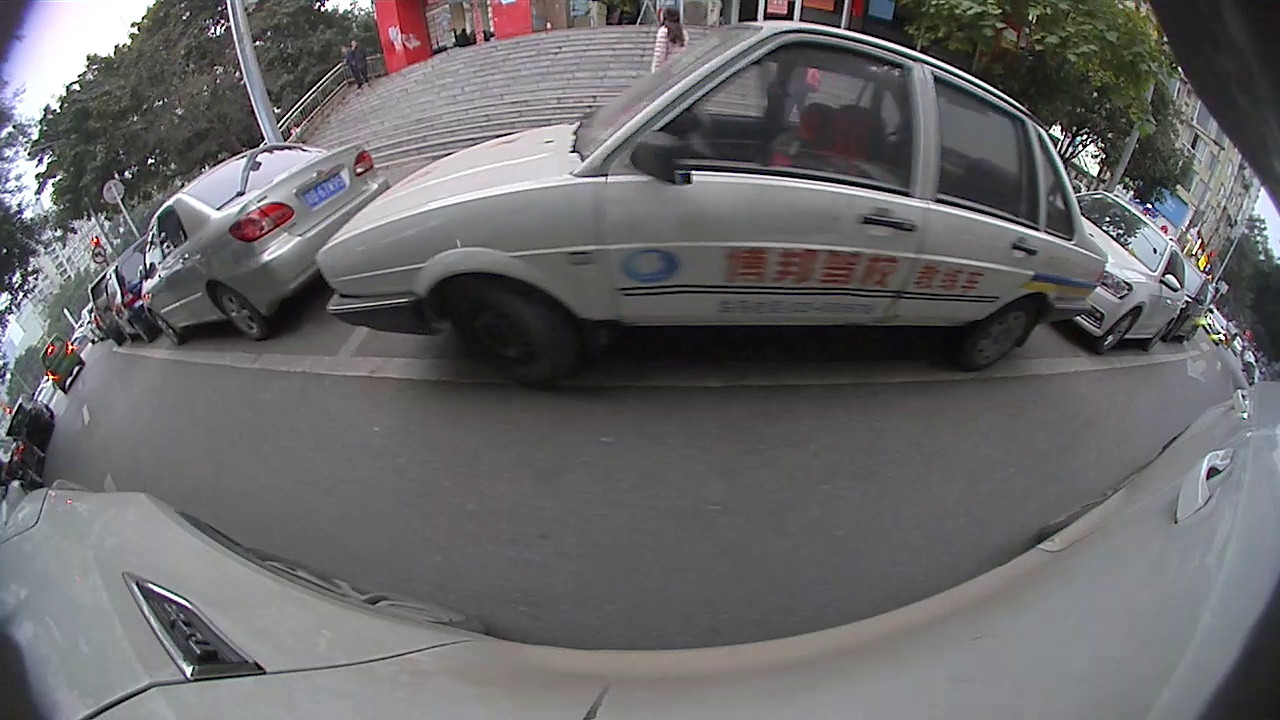car: (317, 16, 1110, 381), (133, 138, 394, 351), (1055, 186, 1187, 358)
front: (448, 274, 576, 382), (1100, 308, 1141, 352), (150, 309, 186, 345)
person: (656, 2, 686, 72)
rear: (973, 294, 1040, 371), (211, 283, 275, 342)
